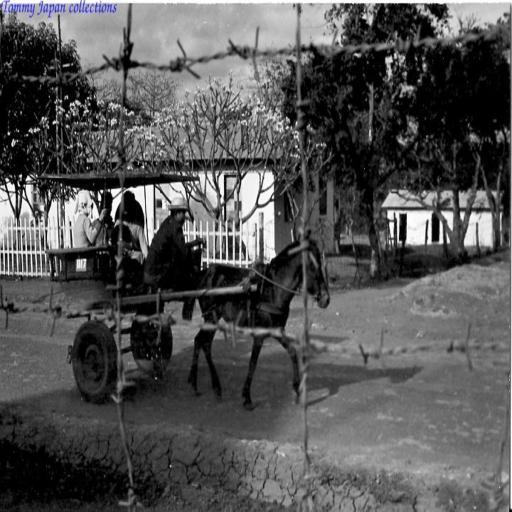Horse: (186, 230, 330, 413)
